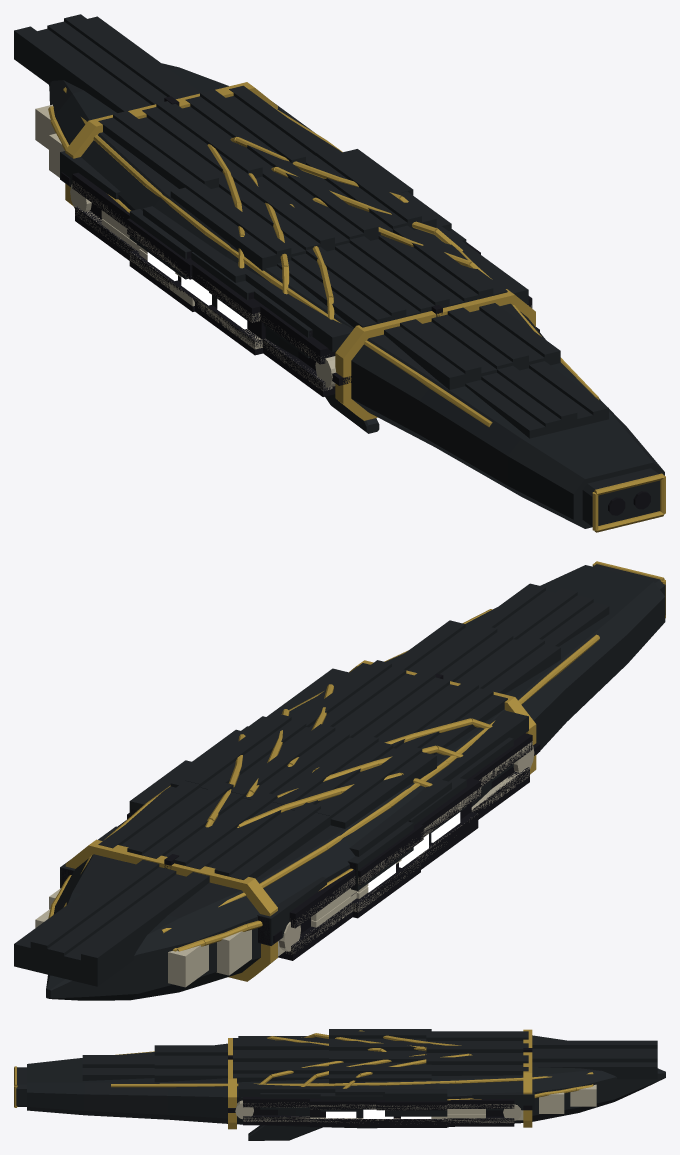
The picture shows the model from 3 angles, top to bottom: view 1: azimuth 30°, elevation 25°; view 2: azimuth 150°, elevation 25°; view 3: azimuth 270°, elevation 25°; orthographic projection. The views are drawn at different scales.
Parts seen in each view (by area): view 1: RIMWARD_HULL, RIMWARD_EMISSIVE; view 2: RIMWARD_HULL, RIMWARD_EMISSIVE; view 3: RIMWARD_HULL, RIMWARD_EMISSIVE.
Part boxes in pixels (x1,y1,x2,y2): RIMWARD_HULL: [14, 14, 665, 532]; RIMWARD_EMISSIVE: [147, 252, 247, 329]; RIMWARD_HULL: [14, 561, 665, 1000]; RIMWARD_EMISSIVE: [367, 812, 460, 892]; RIMWARD_HULL: [14, 1029, 665, 1140]; RIMWARD_EMISSIVE: [326, 1109, 431, 1118].
Size of the model in its own units: 1.69 by 0.9583 by 7.31.
